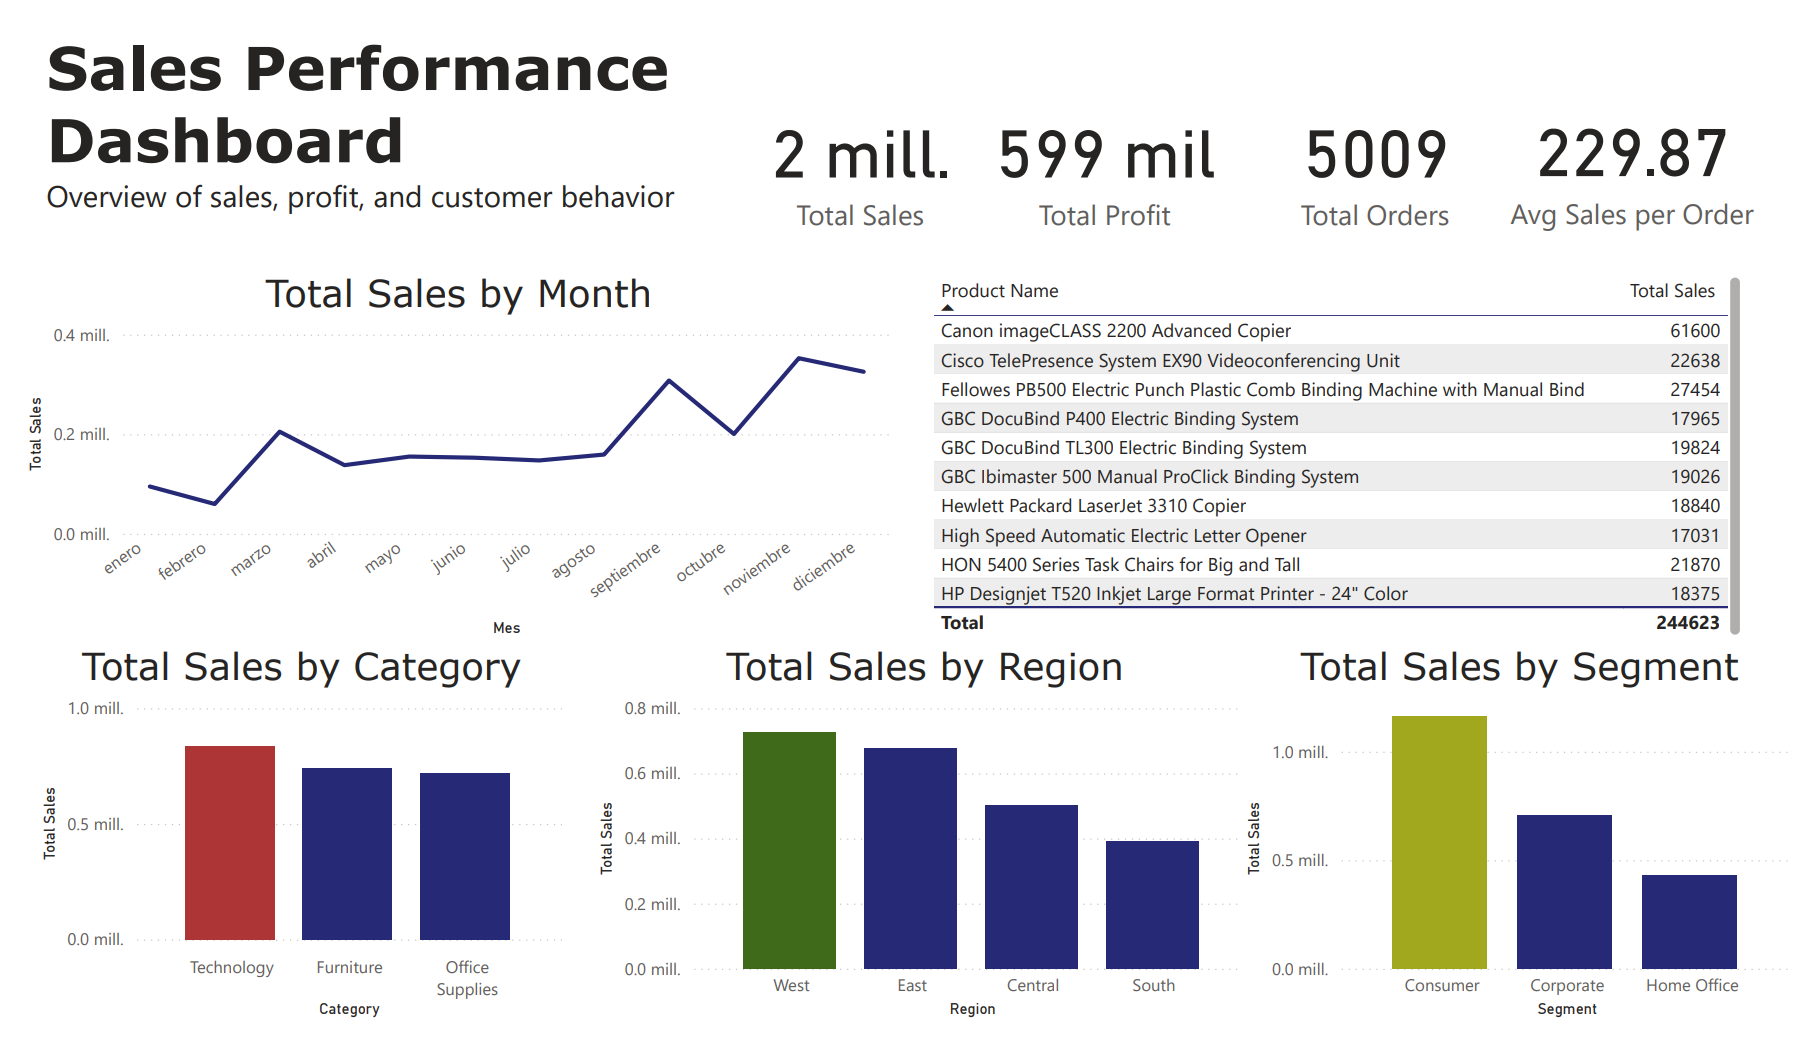

This screenshot's page, from the dashboard's own definition file:
{"tool":"powerbi","page":{"name":"Página 1","canvas":[1280,720],"ordinal":0},"visuals":[{"type":"textbox","box":[10,0,280,280],"z":0},{"type":"card","fields":{"Values":["Sum(Data.Sales)"]},"box":[521.4,28.6,165.7,145.7],"z":1000},{"type":"card","fields":{"Values":["Sum(Data.Profit)"]},"box":[687.1,35.7,185.7,131.4],"z":2000},{"type":"card","fields":{"Values":["Data.Total Orders"]},"box":[890,38.6,168.6,125.7],"z":3000},{"type":"card","fields":{"Values":["Data.Avg Sales per Order"]},"box":[1058.6,41.4,201.4,118.6],"z":4000},{"type":"lineChart","title":"Total Sales by Month","fields":{"Category":["Data.Order Date.Variación.Jerarquía de fechas.Mes"],"Y":["Sum(Data.Sales)"]},"box":[0,177.1,630,268.6],"z":5000},{"type":"clusteredColumnChart","title":"Total Sales by Category","fields":{"Category":["Data.Category"],"Y":["Sum(Data.Sales)"]},"box":[10,445.7,384.3,274.3],"z":6000},{"type":"clusteredColumnChart","title":"Total Sales by Region","fields":{"Y":["Sum(Data.Sales)"],"Category":["Data.Region"]},"box":[411.4,445.7,478.6,274.3],"z":7000},{"type":"clusteredColumnChart","title":"Total Sales by Segment","fields":{"Category":["Data.Segment"],"Y":["Sum(Data.Sales)"]},"box":[877.1,445.7,402.9,274.3],"z":8000},{"type":"tableEx","fields":{"Values":["Data.Product Name","Sum(Data.Sales)"]},"box":[651.4,177.1,591.4,268.6],"z":9000},{"type":"textbox","box":[12.9,0,521.4,167.1],"z":10000}]}

Visuals, with their boxes in screenshot pixels (x1, y1, x2, y2), scaled from the page's 1280x720 canvas onto the 1815x1040 screenshot:
textbox: <region>14, 0, 411, 404</region>
card - Sum(Data.Sales): <region>739, 41, 974, 252</region>
card - Sum(Data.Profit): <region>974, 52, 1238, 241</region>
card - Data.Total Orders: <region>1262, 56, 1501, 237</region>
card - Data.Avg Sales per Order: <region>1501, 60, 1787, 231</region>
"Total Sales by Month" lineChart: <region>0, 256, 893, 644</region>
"Total Sales by Category" clusteredColumnChart: <region>14, 644, 559, 1039</region>
"Total Sales by Region" clusteredColumnChart: <region>583, 644, 1262, 1039</region>
"Total Sales by Segment" clusteredColumnChart: <region>1244, 644, 1814, 1039</region>
tableEx - Data.Product Name x Sum(Data.Sales): <region>924, 256, 1762, 644</region>
textbox: <region>18, 0, 758, 241</region>
